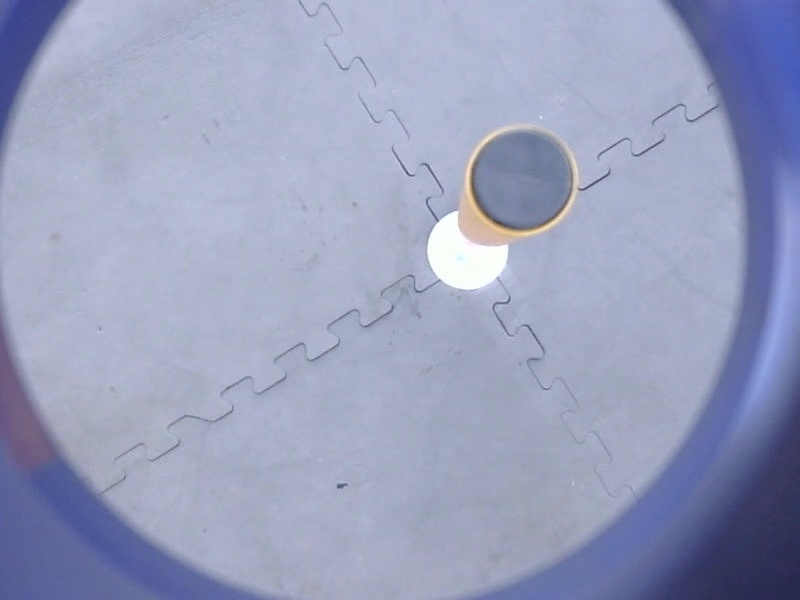tip: (459, 118, 585, 239)
